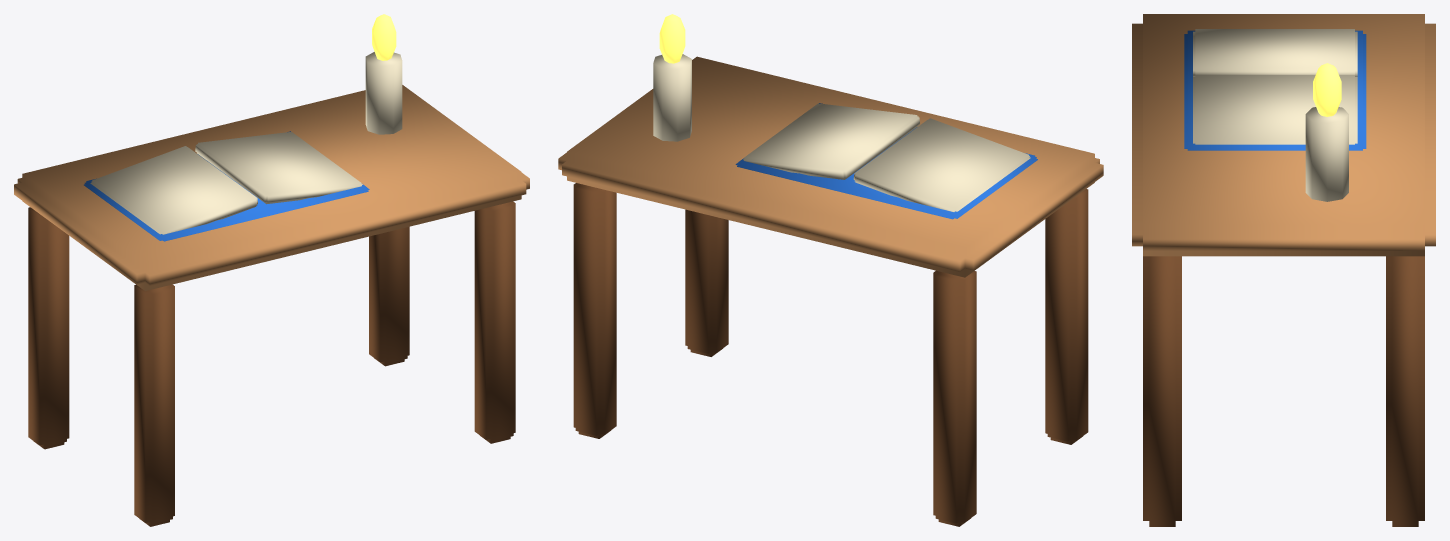
File: mesa-leitura.glb
The picture shows the model from 3 angles, left to right: view 1: azimuth 30°, elevation 25°; view 2: azimuth 150°, elevation 25°; view 3: azimuth 270°, elevation 25°; orthographic projection. The views are drawn at different scales.
Parts seen in each view (by area): view 1: MesaLeitura; view 2: MesaLeitura; view 3: MesaLeitura.
Part boxes in pixels (box(x1,y1,x2,y2)): MesaLeitura: box(14, 14, 529, 526); MesaLeitura: box(558, 14, 1103, 526); MesaLeitura: box(1132, 14, 1435, 526).
Size of the model in its own units: 1.2 by 1.11 by 0.7.
